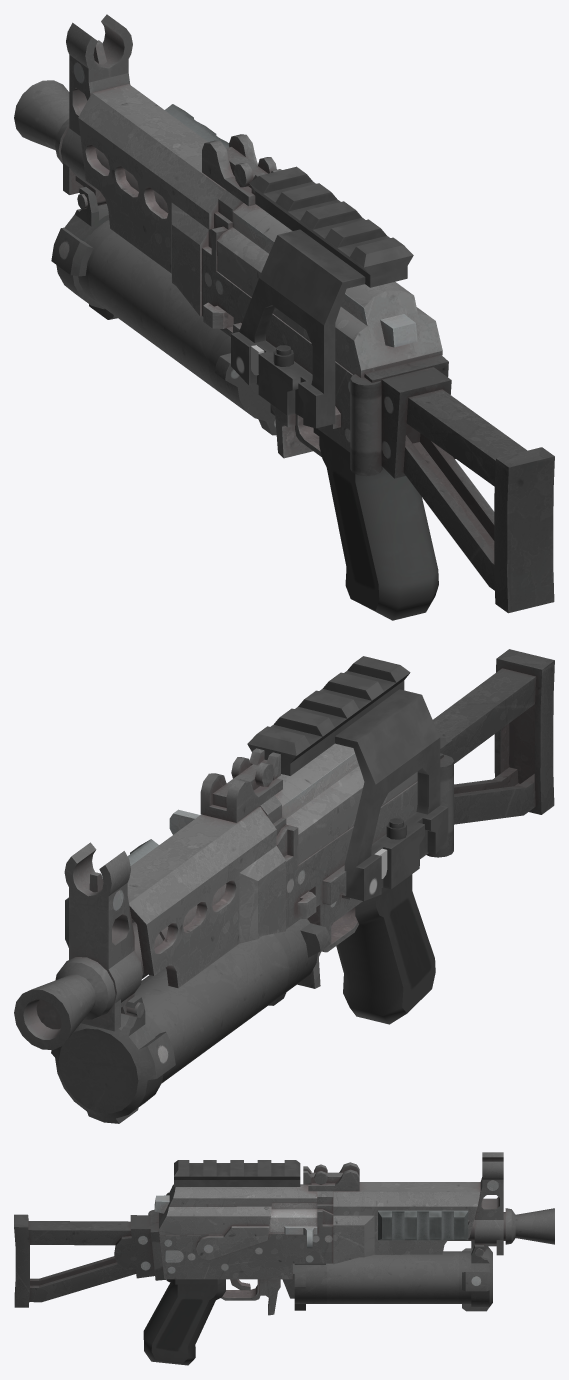
Rendered from IG_Gun_PP19Bizon.fbx.
The picture shows the model from 3 angles, top to bottom: view 1: azimuth 30°, elevation 25°; view 2: azimuth 150°, elevation 25°; view 3: azimuth 270°, elevation 25°; orthographic projection. The views are drawn at different scales.
Parts seen in each view (by area): view 1: WPN_PP19Bizon, HideIf_Stock, ShowIf_Scope, HideIf_Muzzle; view 2: WPN_PP19Bizon, ShowIf_Scope, HideIf_Stock, HideIf_Muzzle; view 3: WPN_PP19Bizon, HideIf_Stock, ShowIf_Scope, ShowIf_Tec, HideIf_Muzzle.
Boxes of the visible parts, x1,y1,x2,y2 form: WPN_PP19Bizon: (51, 14, 448, 620); HideIf_Stock: (381, 367, 554, 613); ShowIf_Scope: (231, 166, 413, 428); HideIf_Muzzle: (14, 80, 69, 150); WPN_PP19Bizon: (51, 743, 453, 1123); ShowIf_Scope: (247, 656, 448, 901); HideIf_Stock: (433, 649, 554, 824); HideIf_Muzzle: (14, 974, 95, 1049); WPN_PP19Bizon: (143, 1152, 515, 1365); HideIf_Stock: (14, 1214, 154, 1307); ShowIf_Scope: (174, 1160, 300, 1186); ShowIf_Tec: (378, 1210, 468, 1240); HideIf_Muzzle: (515, 1208, 554, 1244).
Bounding box in the file's own units: 0.1711 × 0.3792 × 0.9107.
